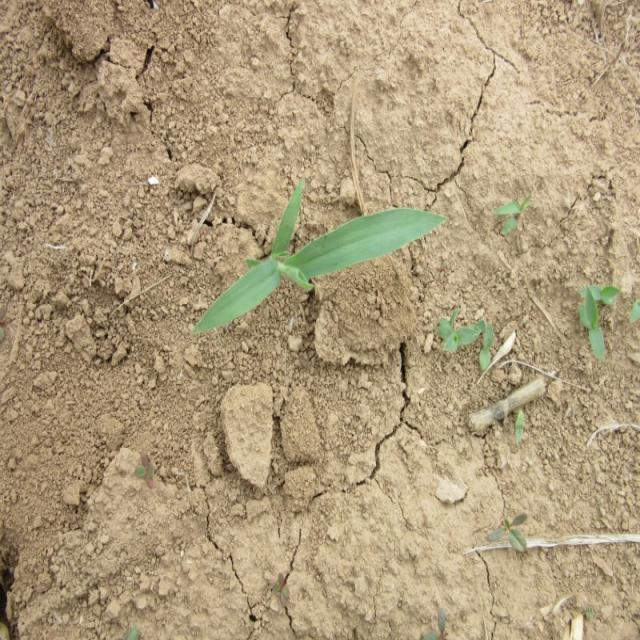bg: (193, 186, 442, 335)
